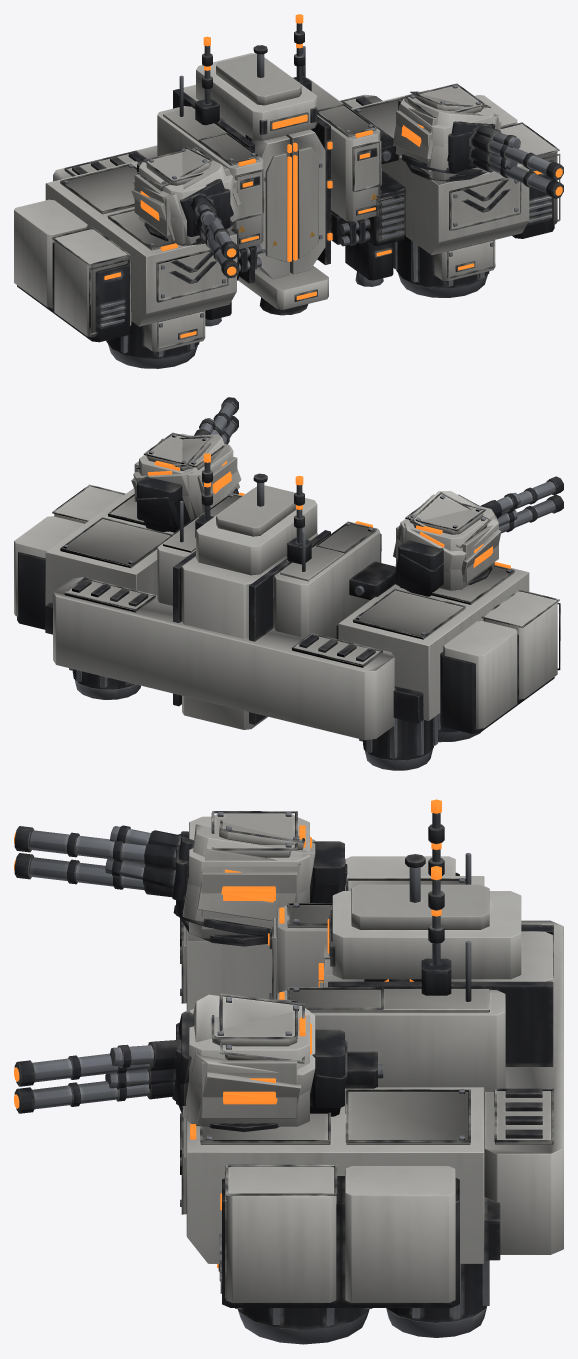
File: warden-v5-remodel.glb
The picture shows the model from 3 angles, top to bottom: view 1: azimuth 30°, elevation 25°; view 2: azimuth 150°, elevation 25°; view 3: azimuth 270°, elevation 25°; orthographic projection. The views are drawn at different scales.
Parts seen in each view (by area): view 1: warden_hull, warden_pod_right, warden_pod_left, warden_pod_right_wreck, warden_core_hatch_1, warden_pod_left_wreck, warden_core_hatch_0; view 2: warden_hull, warden_pod_left, warden_pod_right, warden_pod_left_wreck, warden_pod_right_wreck; view 3: warden_hull, warden_pod_right, warden_pod_left, warden_pod_right_wreck, warden_pod_left_wreck.
Part boxes in pixels (x1,y1,x2,y2): warden_hull: (14, 14, 560, 368); warden_pod_right: (396, 83, 563, 198); warden_pod_left: (134, 147, 238, 278); warden_pod_right_wreck: (393, 91, 520, 175); warden_core_hatch_1: (286, 129, 325, 274); warden_pod_left_wreck: (131, 146, 241, 245); warden_core_hatch_0: (251, 135, 291, 279); warden_hull: (14, 453, 560, 770); warden_pod_left: (396, 476, 563, 590); warden_pod_right: (134, 397, 238, 526); warden_pod_left_wreck: (393, 491, 520, 596); warden_pod_right_wreck: (131, 418, 241, 531); warden_hull: (180, 799, 563, 1344); warden_pod_right: (14, 999, 344, 1131); warden_pod_left: (14, 811, 344, 946); warden_pod_right_wreck: (105, 993, 347, 1125); warden_pod_left_wreck: (105, 819, 347, 936).
Size of the model in its own units: 7.57 by 3.95 by 5.18.
Materials: 3 (1 with a texture image).
